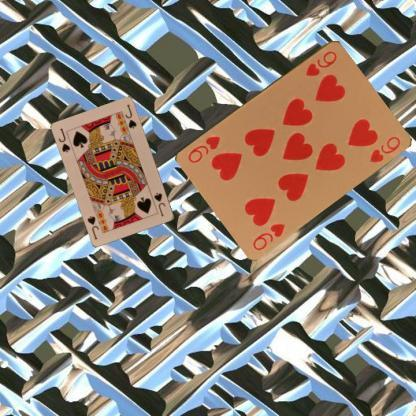9h: (302, 48, 339, 79), (250, 220, 286, 251)
Js: (151, 190, 167, 218), (57, 125, 72, 154)
